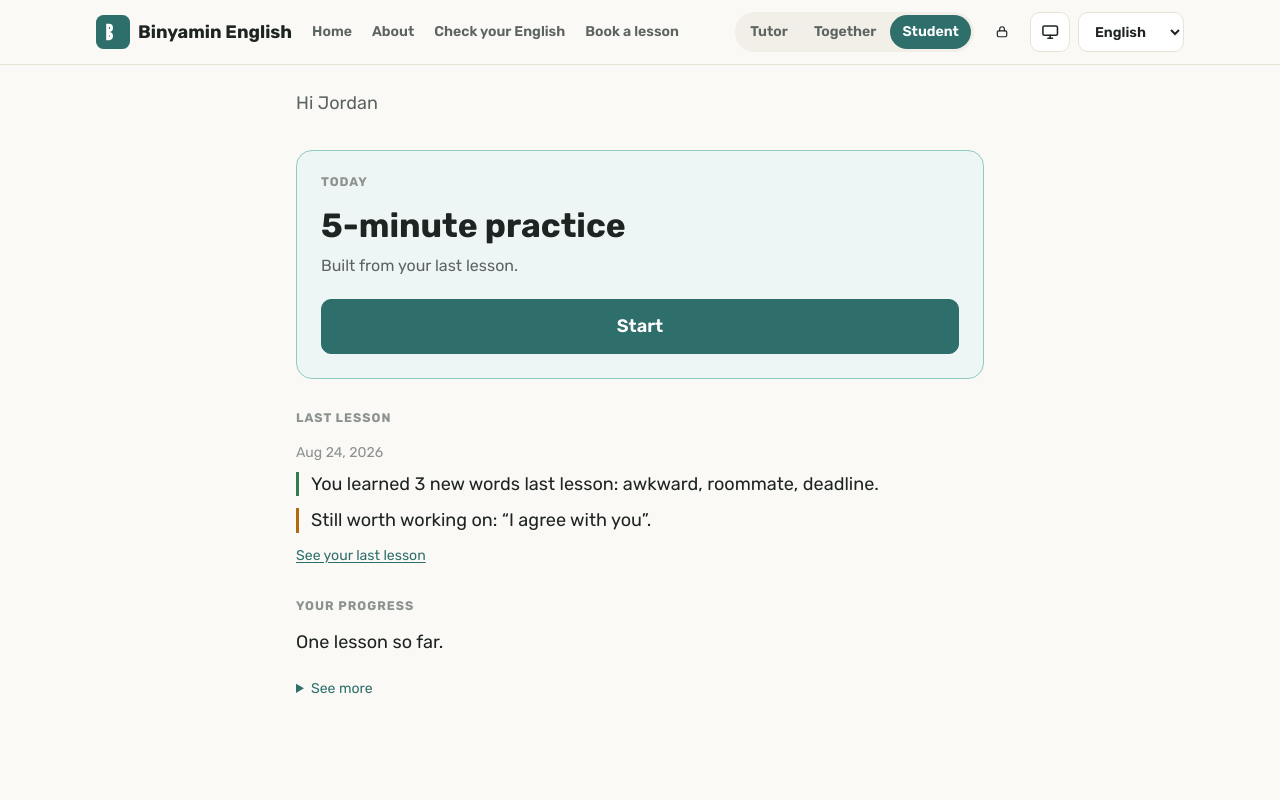
Test: leaving student mode costs the access phrase › the right phrase gives the tutor their screen back
The width and height of the screenshot is (1280, 800).
Expected: the text "Hi Jordan" is shown, x1=296 y1=92 x2=378 y2=114
Click the radio button labelled "Tutor" at (769, 32), box x1=738 y1=15 x2=800 y2=49
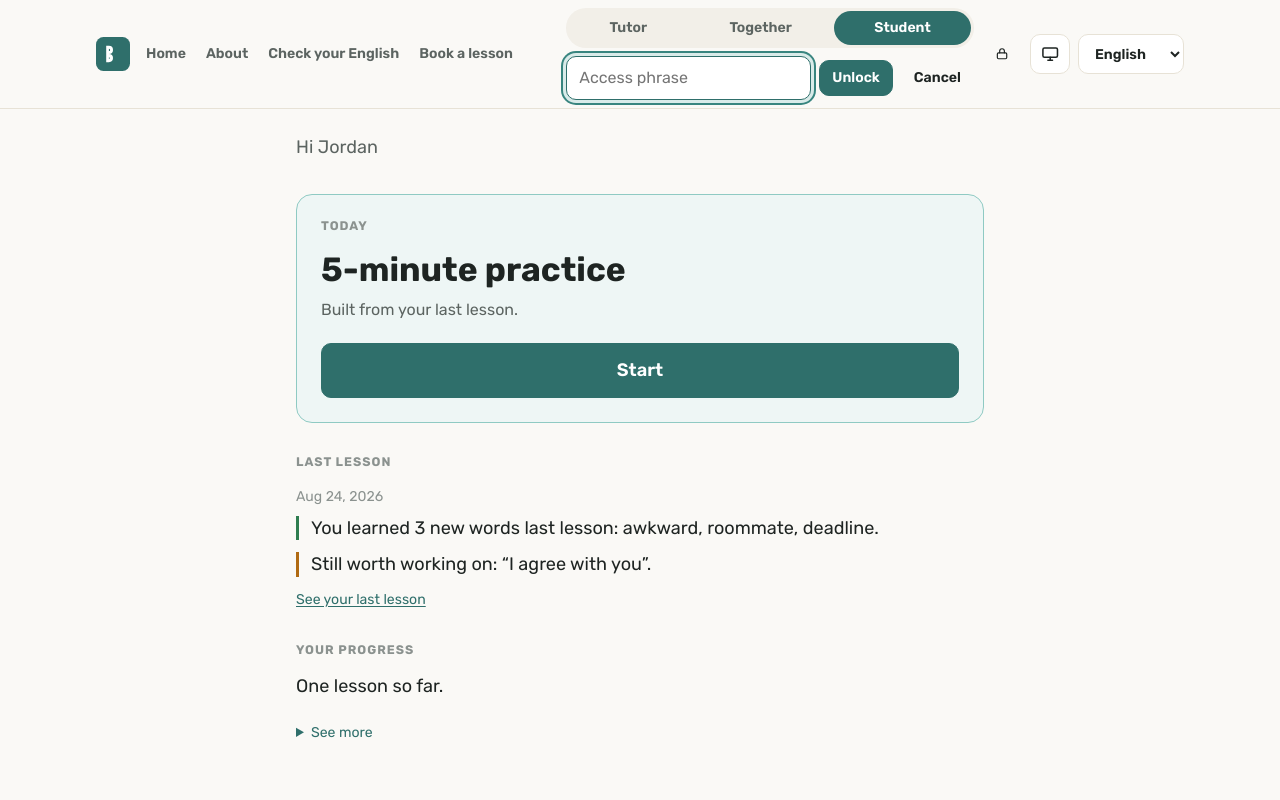
Type "teach" into the password field named "access phrase to leave student mode" at (689, 78), box x1=566 y1=56 x2=811 y2=100
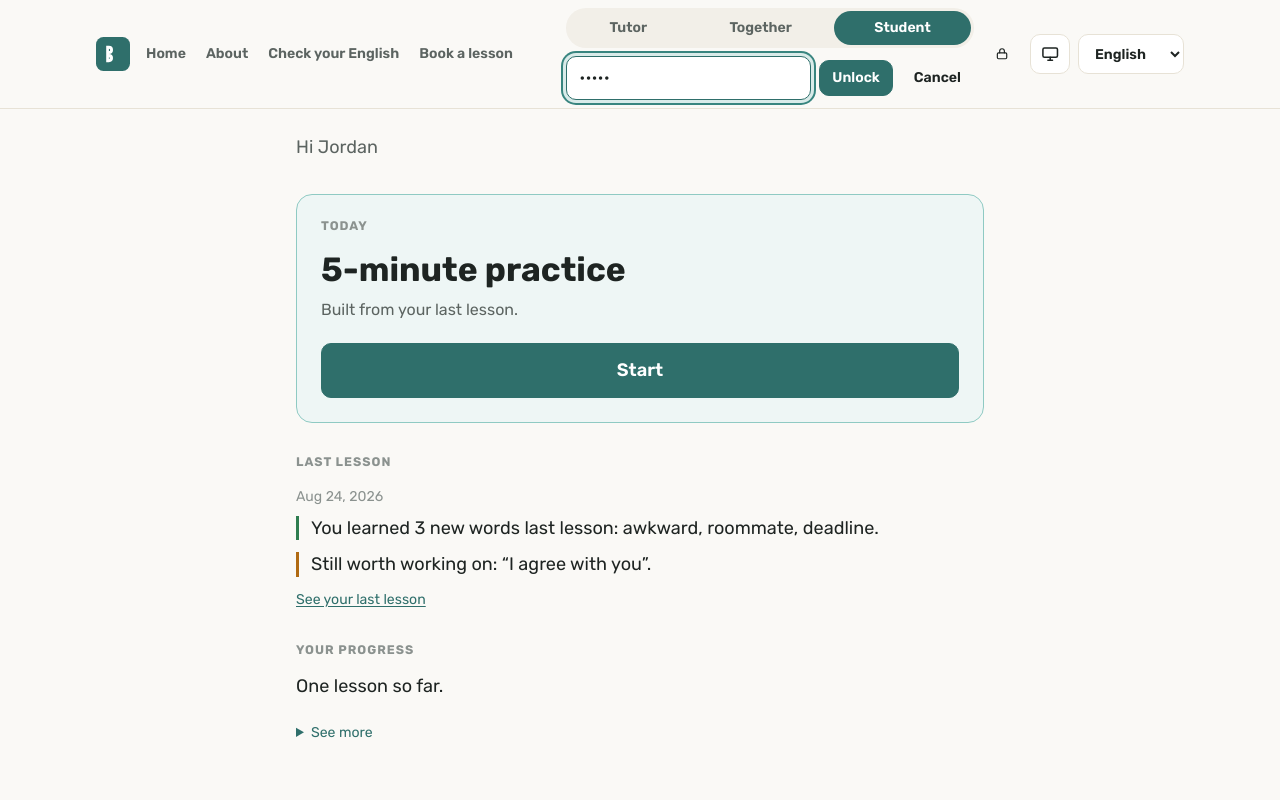
Click the button "Unlock" at (856, 78), box x1=819 y1=60 x2=893 y2=96
(page scrolled)
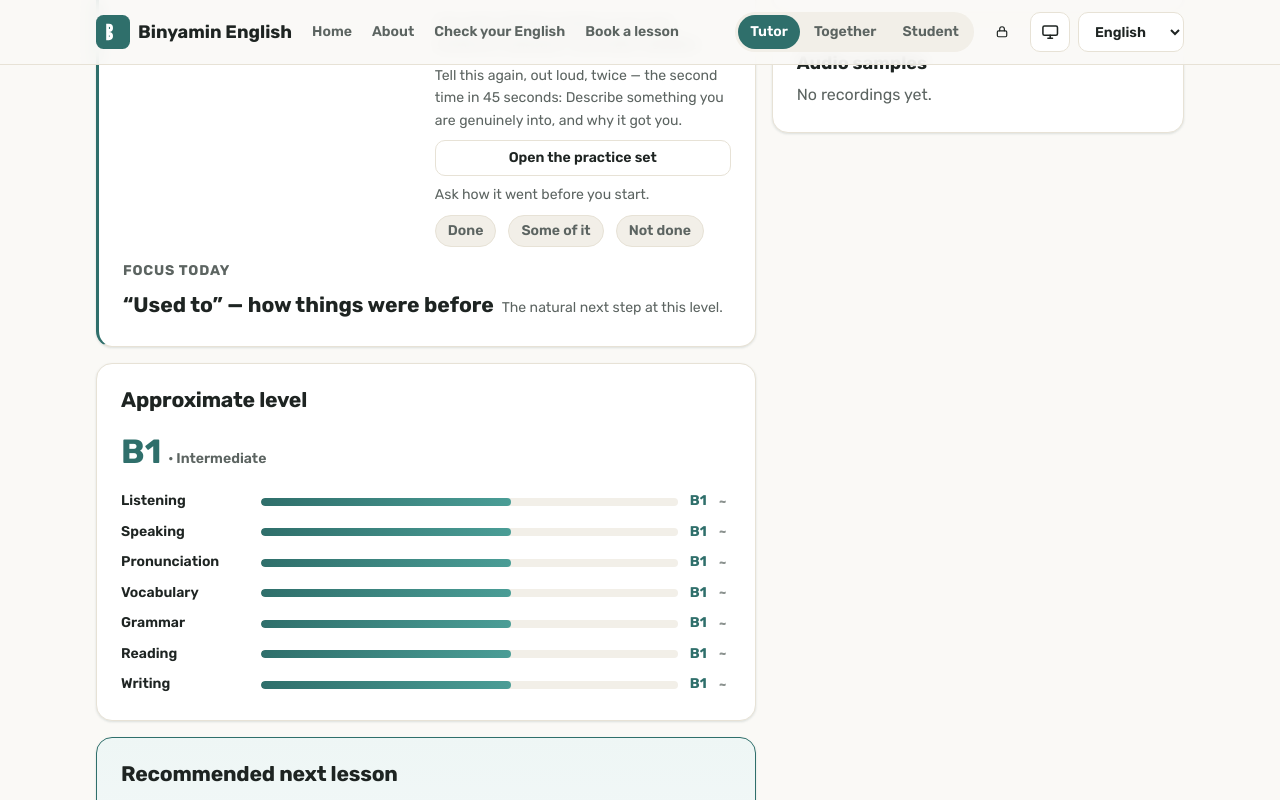
Now the heading "Approximate level" is shown, box x1=121 y1=387 x2=307 y2=412
